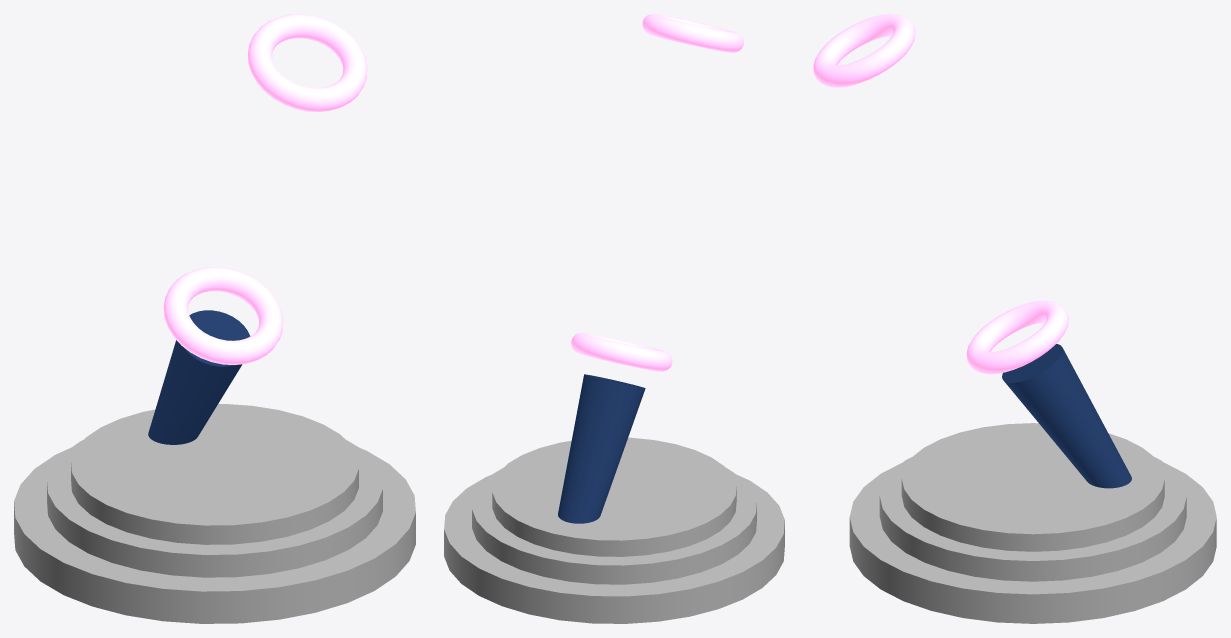
File: globeStand.gltf
3 renders of one model, left to right at view 1: azimuth 30°, elevation 25°; view 2: azimuth 150°, elevation 25°; view 3: azimuth 270°, elevation 25°, orthographic. The views are drawn at different scales.
Visible parts, largest first — view 1: Cylinder, Torus.001, Torus; view 2: Cylinder, Torus, Torus.001; view 3: Cylinder, Torus.001, Torus.
Part boxes in pixels (x1,y1,x2,y2): Cylinder: (14, 310, 415, 623); Torus.001: (247, 14, 367, 112); Torus: (163, 267, 283, 365); Cylinder: (444, 374, 784, 623); Torus: (571, 332, 672, 371); Torus.001: (642, 14, 743, 52); Cylinder: (849, 344, 1216, 623); Torus.001: (813, 14, 915, 87); Torus: (966, 300, 1068, 374).
Bounding box in the file's own units: 15.89 × 25 × 17.48.
